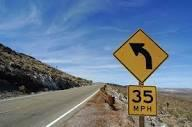Left Curve Ahead: (112, 54, 151, 96)
